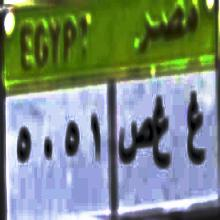0: (41, 133, 53, 167)
1: (90, 113, 102, 164)
5: (14, 121, 32, 168), (63, 115, 79, 163)
ghayn: (183, 89, 205, 169), (152, 96, 170, 176)
saad: (117, 111, 153, 166)
